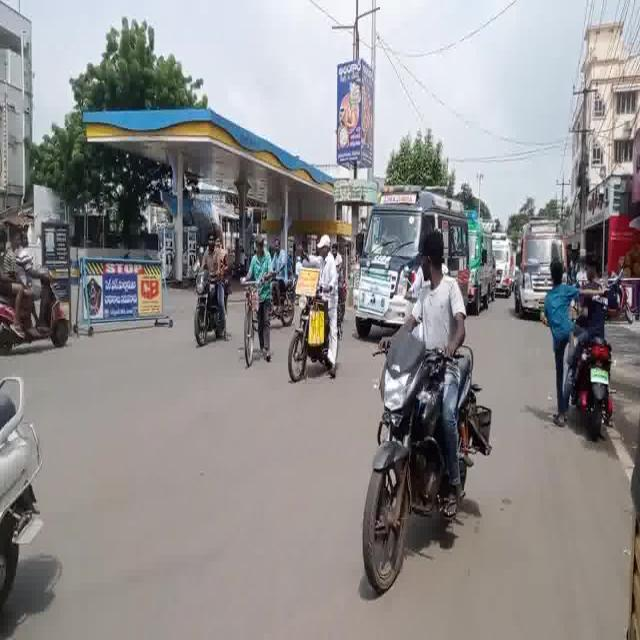ambulance: (356, 175, 471, 323), (515, 212, 572, 314), (482, 201, 513, 313)
